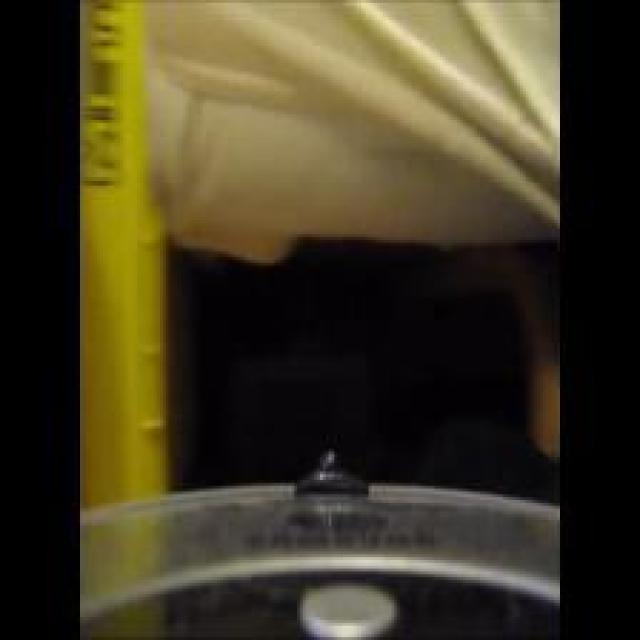other: (85, 9, 168, 474)
